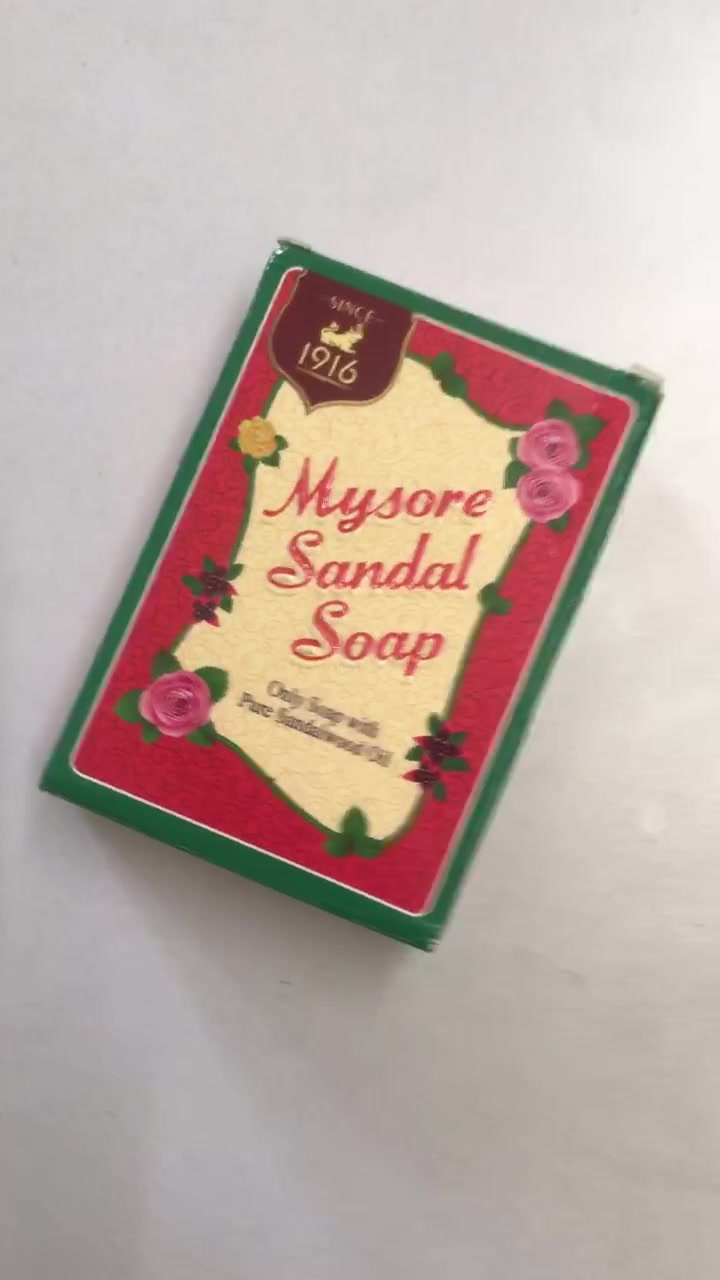mysore sandal soap: (39, 239, 659, 955)
